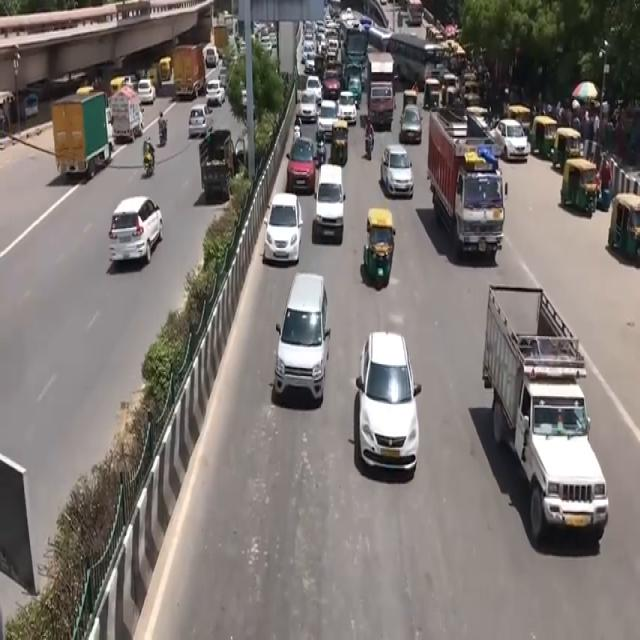CMT: (487, 286, 606, 553)
TRUCK: (429, 116, 507, 266), (52, 92, 113, 186), (363, 52, 393, 127)
